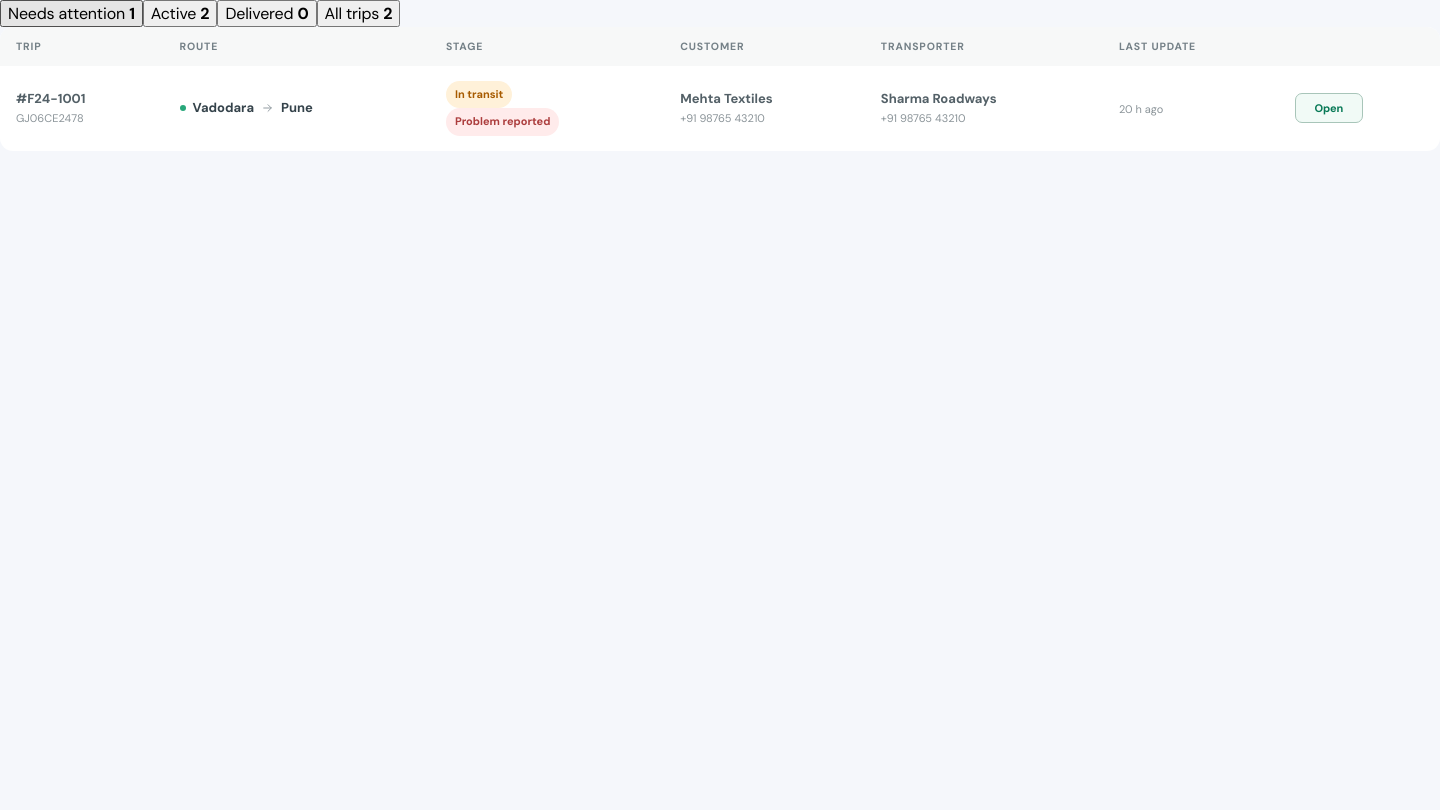
Scenario: AdminTrips › opens a trip with contacts and admin actions
Later steps or results of the test are not shown.
What coordinates should you click on to do the following:
click the text "#F24-1001"
I would click on:
 (51, 99)
Its box is [16,90,86,107].
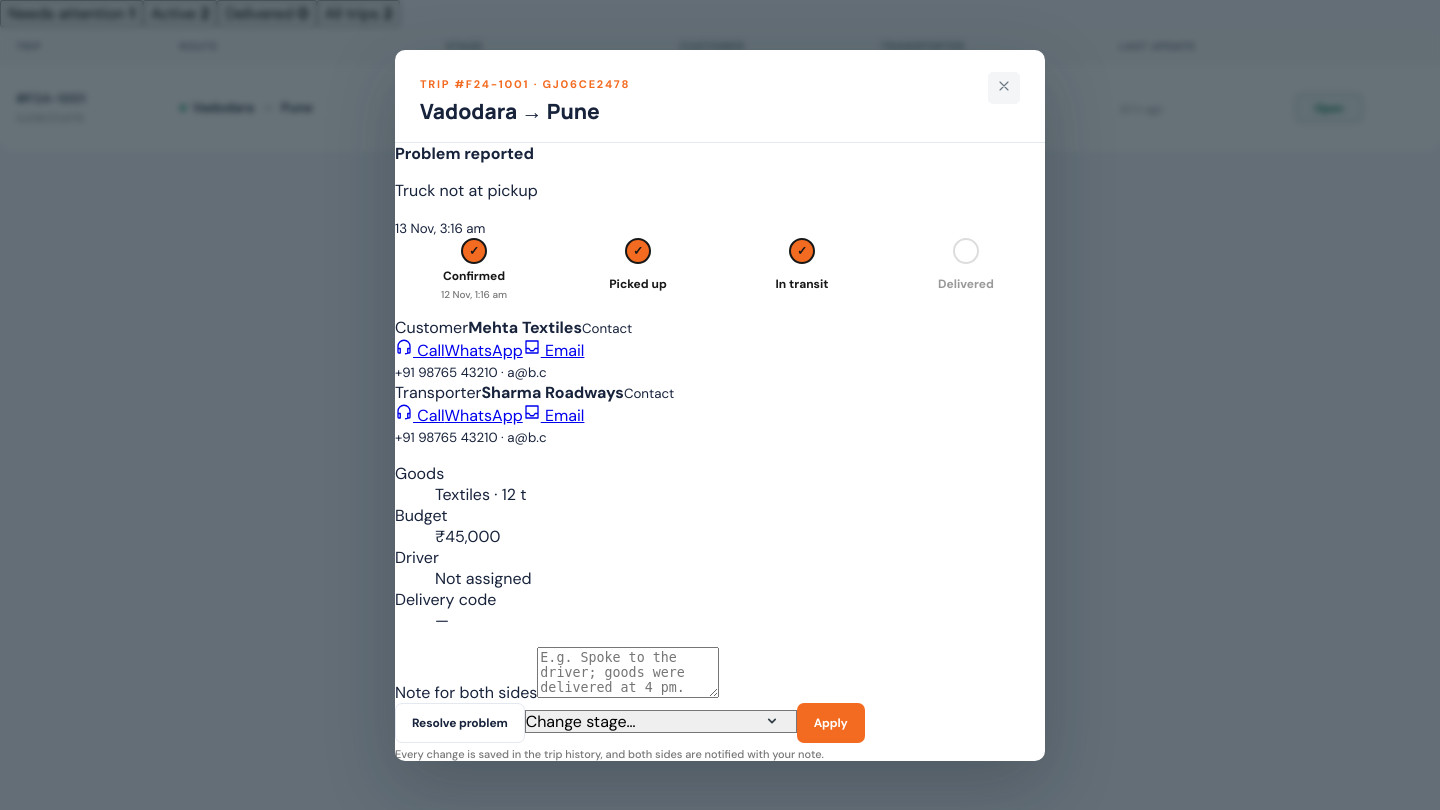
Result: the dialog "Vadodara → Pune" is shown at [395,50,1045,760]
Result: the text "Truck not at pickup" is shown at [395,180,538,200]
Result: the number of links "WhatsApp" is 2 at [445,340,523,360]; [445,404,523,426]
